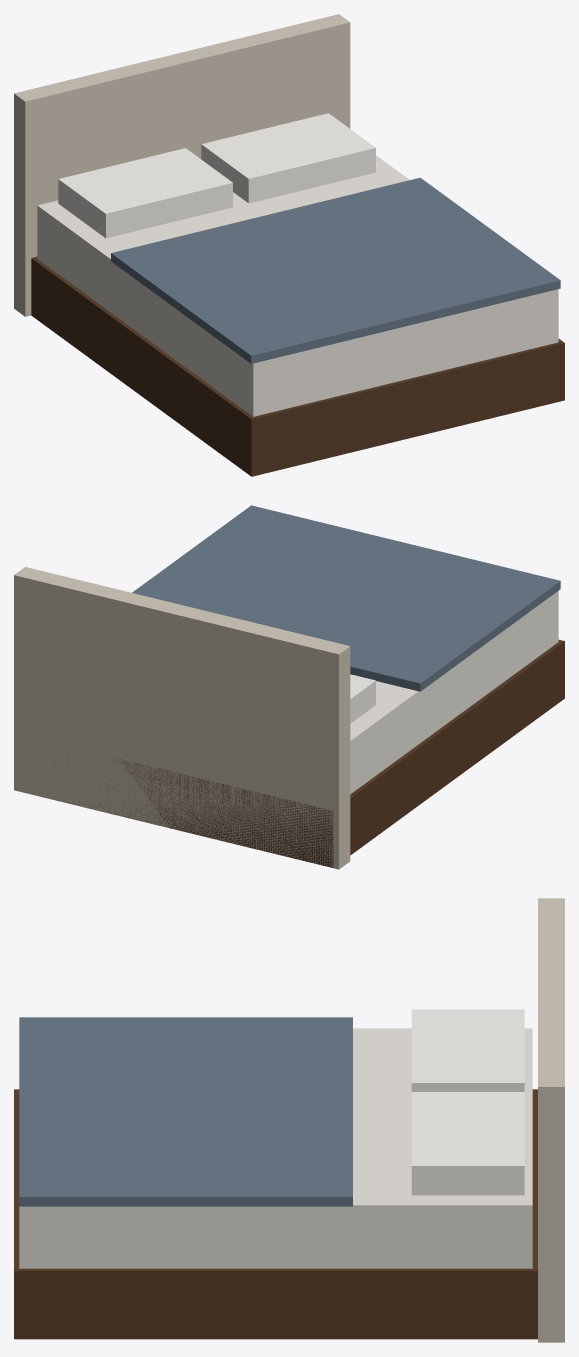
Rendered from bed_queen.glb.
The picture shows the model from 3 angles, top to bottom: view 1: azimuth 30°, elevation 25°; view 2: azimuth 150°, elevation 25°; view 3: azimuth 270°, elevation 25°; orthographic projection. The views are drawn at different scales.
Bounding box in the file's own units: 1.66 × 1.05 × 2.05.
